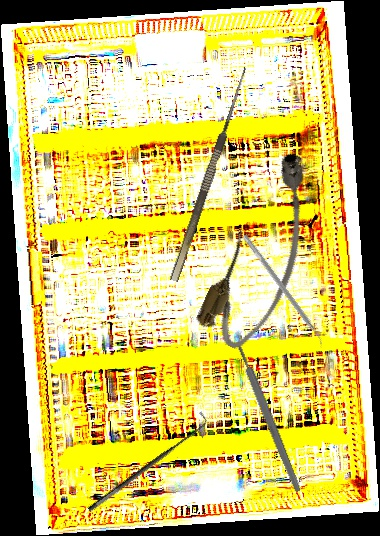Cannula: (191, 145, 339, 358)
Hook Surgical: (157, 62, 252, 283), (80, 411, 213, 514)
Scalpel Handle: (234, 342, 303, 493)
Spatula Surgical: (237, 233, 329, 350)
